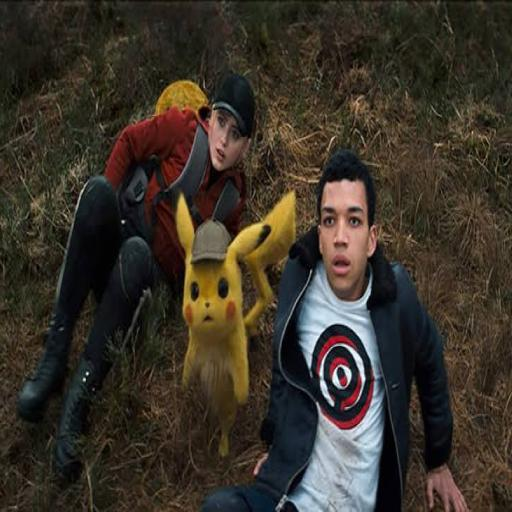Pikachu: (175, 184, 297, 456)
